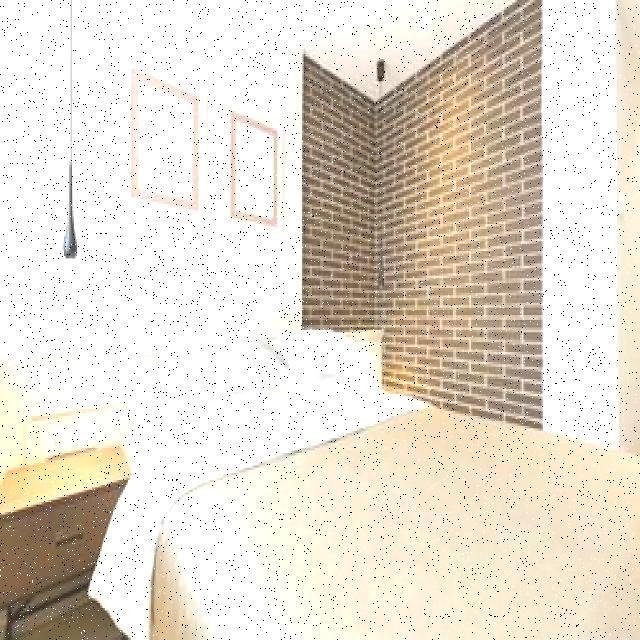bed: (115, 320, 640, 638)
